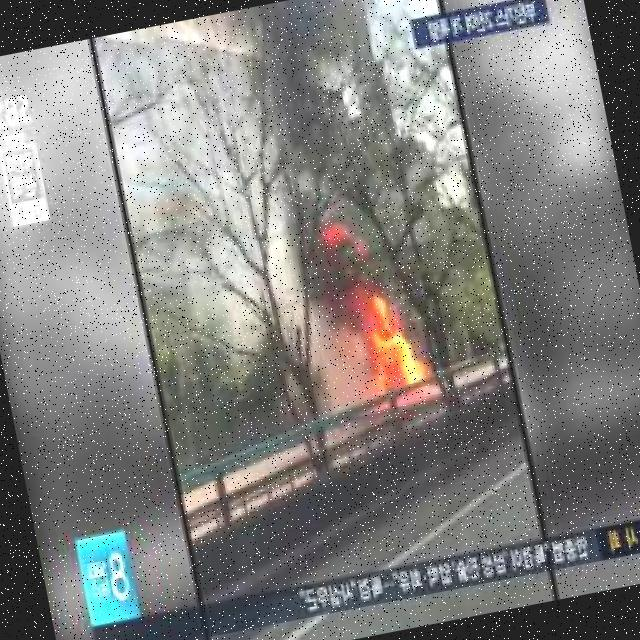Fire: (344, 274, 439, 399)
